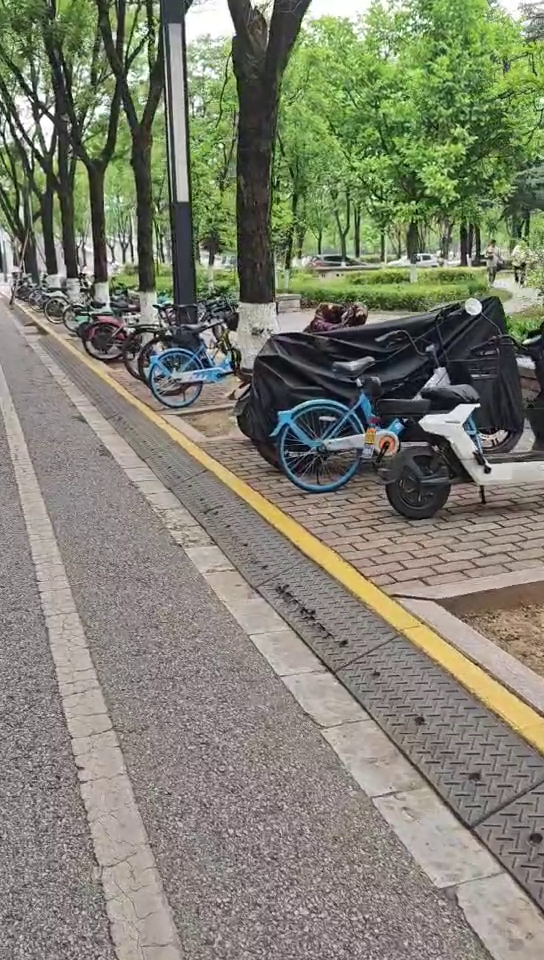others: (394, 336, 544, 513)
shared_bike_haluo: (277, 334, 468, 492), (160, 311, 260, 405)
